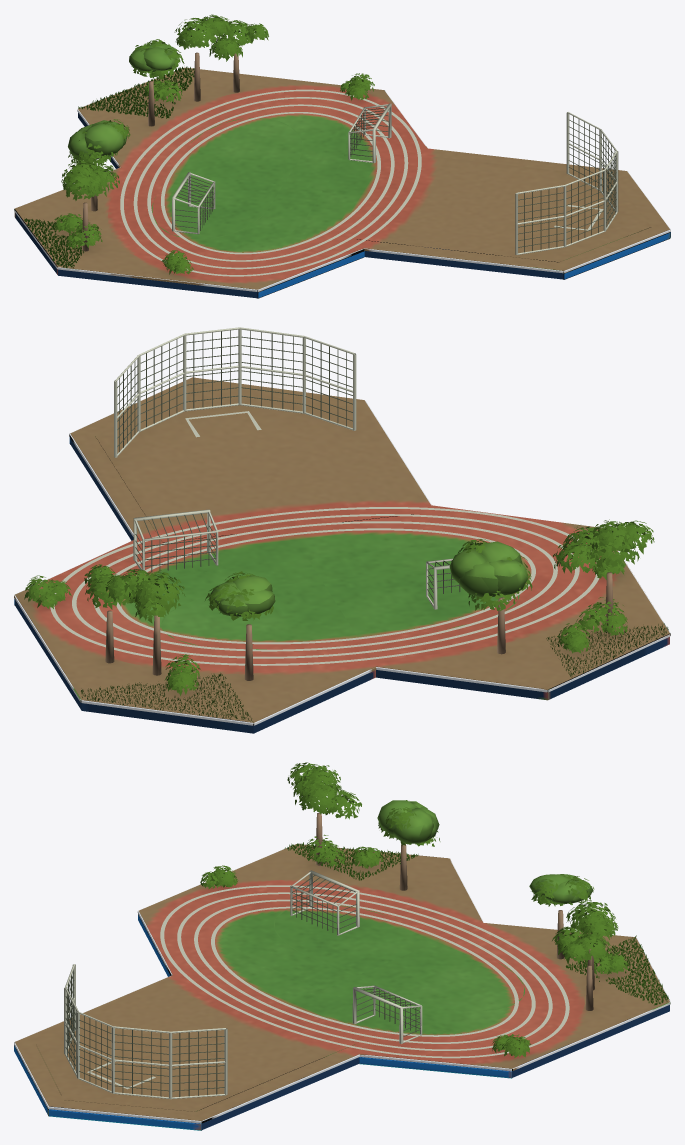
File: field_cm02_01.glb
The picture shows the model from 3 angles, top to bottom: view 1: azimuth 30°, elevation 25°; view 2: azimuth 150°, elevation 25°; view 3: azimuth 270°, elevation 25°; orthographic projection. The views are drawn at different scales.
Parts seen in each view (by area): view 1: field_cm02_01-runtime-static; view 2: field_cm02_01-runtime-static; view 3: field_cm02_01-runtime-static.
Boxes of the visible parts, bbox=[...] form: field_cm02_01-runtime-static: bbox=[14, 14, 670, 298]; field_cm02_01-runtime-static: bbox=[14, 327, 670, 733]; field_cm02_01-runtime-static: bbox=[14, 762, 670, 1130].
Bounding box in the file's own units: 14.93 × 2.66 × 14.93.
Materials: 1 (1 with a texture image).
